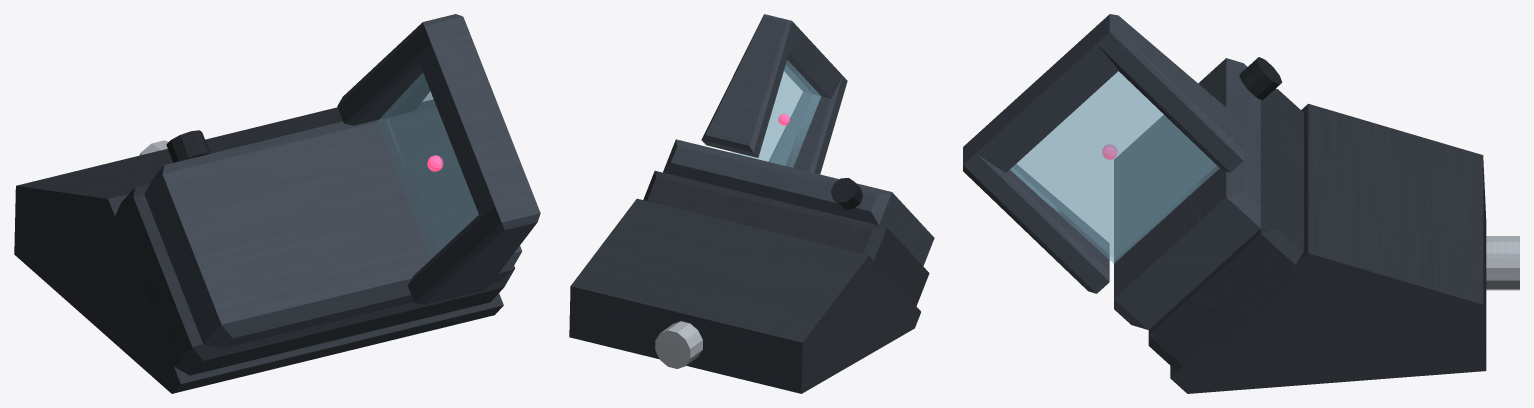
The model's file is sight_reflex_canted_v2.glb.
The picture shows the model from 3 angles, left to right: view 1: azimuth 30°, elevation 25°; view 2: azimuth 150°, elevation 25°; view 3: azimuth 270°, elevation 25°; orthographic projection. The views are drawn at different scales.
Visible parts, largest first — view 1: sight_reflex_canted_mesh; view 2: sight_reflex_canted_mesh; view 3: sight_reflex_canted_mesh.
Part boxes in pixels (<box>): sight_reflex_canted_mesh: <box>14,14,540,393</box>; sight_reflex_canted_mesh: <box>569,14,934,393</box>; sight_reflex_canted_mesh: <box>963,14,1519,393</box>.
Size of the model in its own units: 0.058 by 0.0594 by 0.0913.
Materials: 7 (5 with a texture image).
